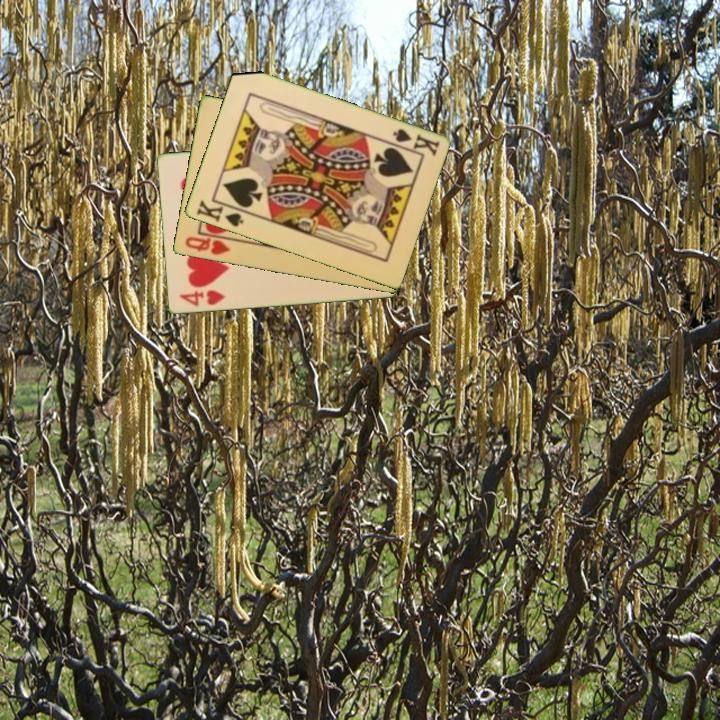4h: (176, 287, 227, 309)
Ks: (192, 196, 249, 230), (389, 125, 442, 159)
Qh: (181, 233, 233, 258)
